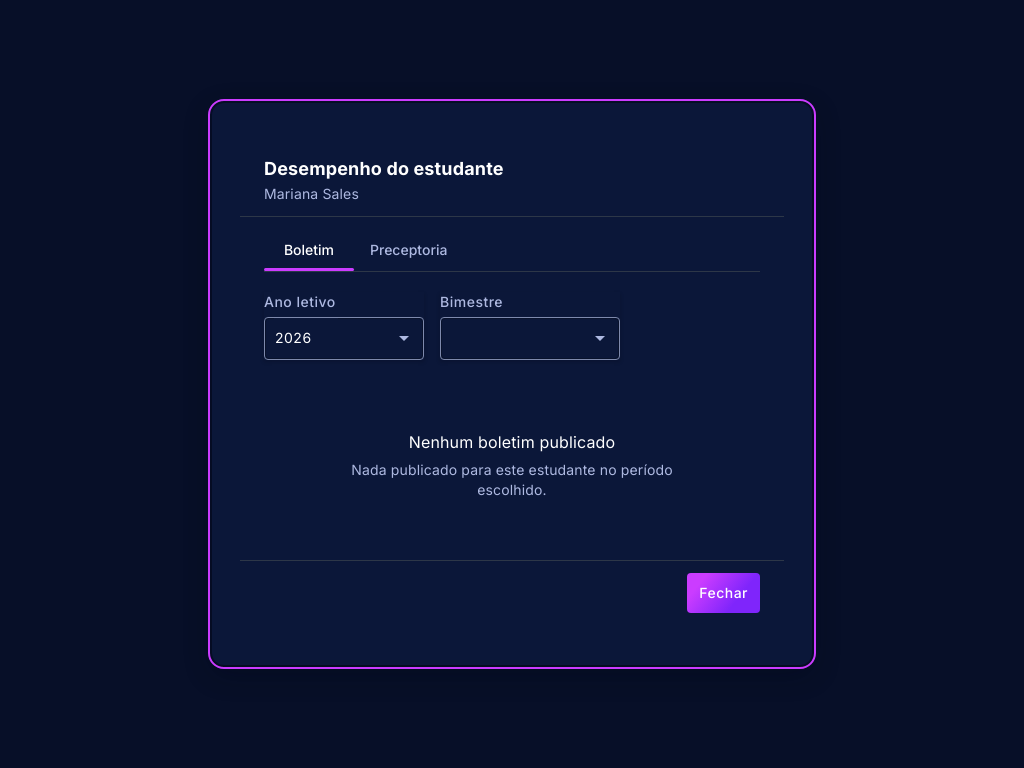
it: StudentAcademicDialog, the preceptorship tab › says so when the preceptorship cannot be loaded
This screenshot has width=1024, height=768.
Click the tab "Preceptoria" at (409, 250), box [354,229,463,271]
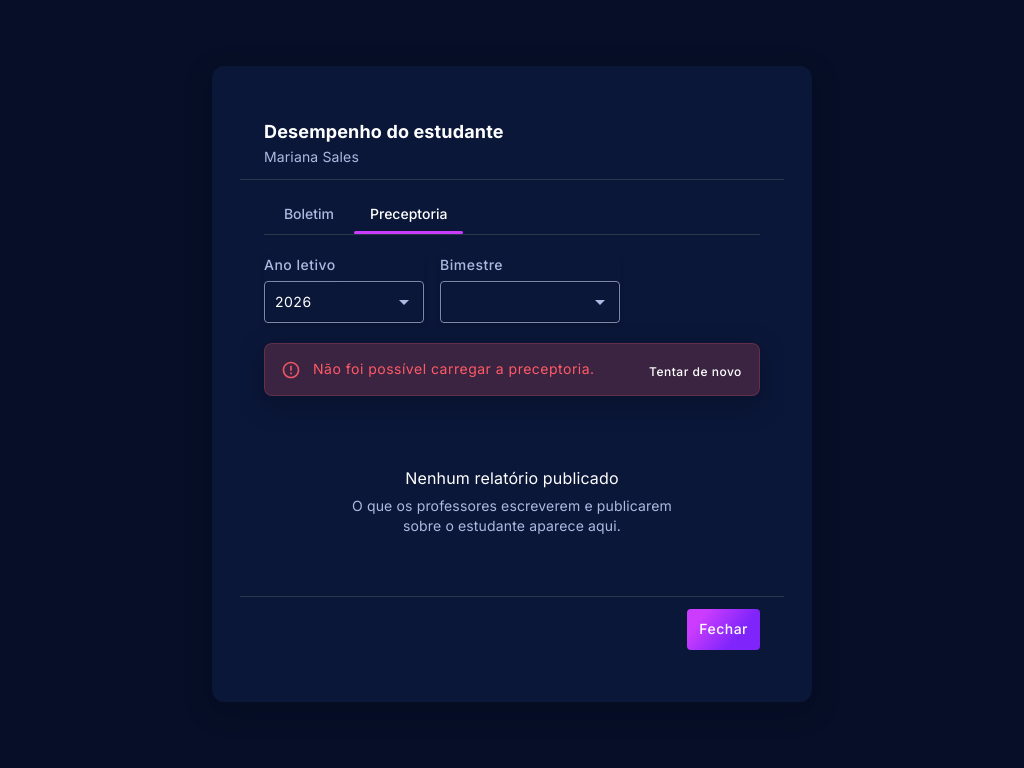
Expected: the text "Não foi possível carregar a preceptoria." is shown, [313,360,595,378]
